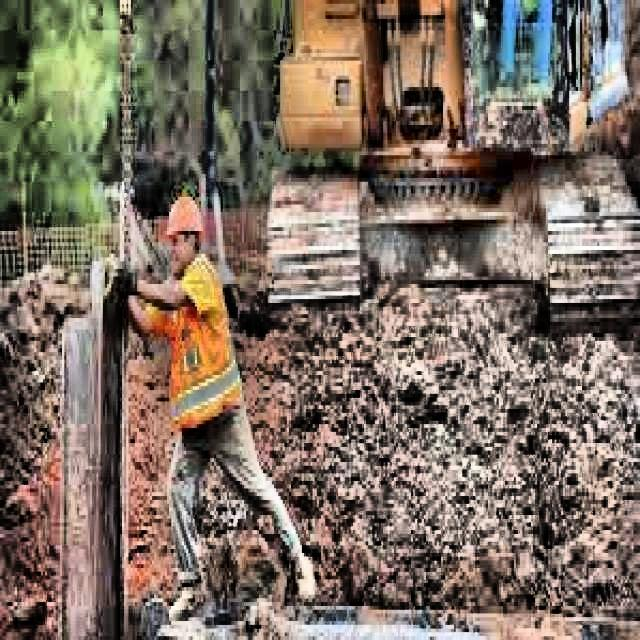bull_dozer/loader/grader: (265, 0, 640, 315)
person: (124, 192, 317, 612)
